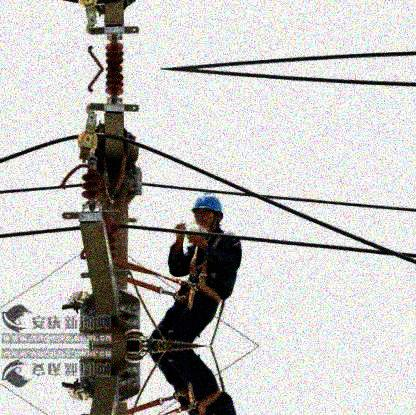helmet: (190, 192, 225, 230)
